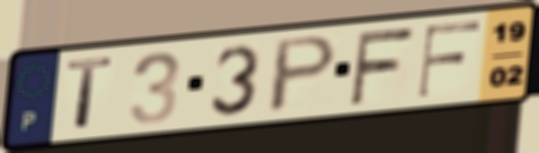3: (128, 50, 183, 126), (208, 42, 263, 118)
F: (347, 24, 418, 108), (414, 18, 485, 101)
P: (263, 32, 342, 117)
T: (65, 54, 117, 132)
